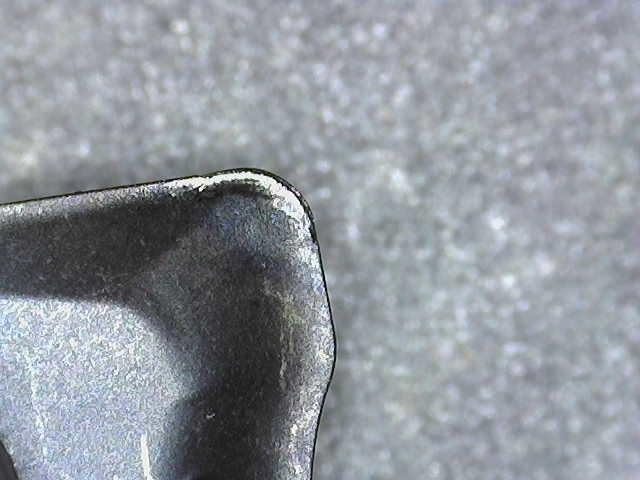normal: (300, 249, 333, 477), (0, 184, 170, 228)
wear: (166, 166, 316, 246)
